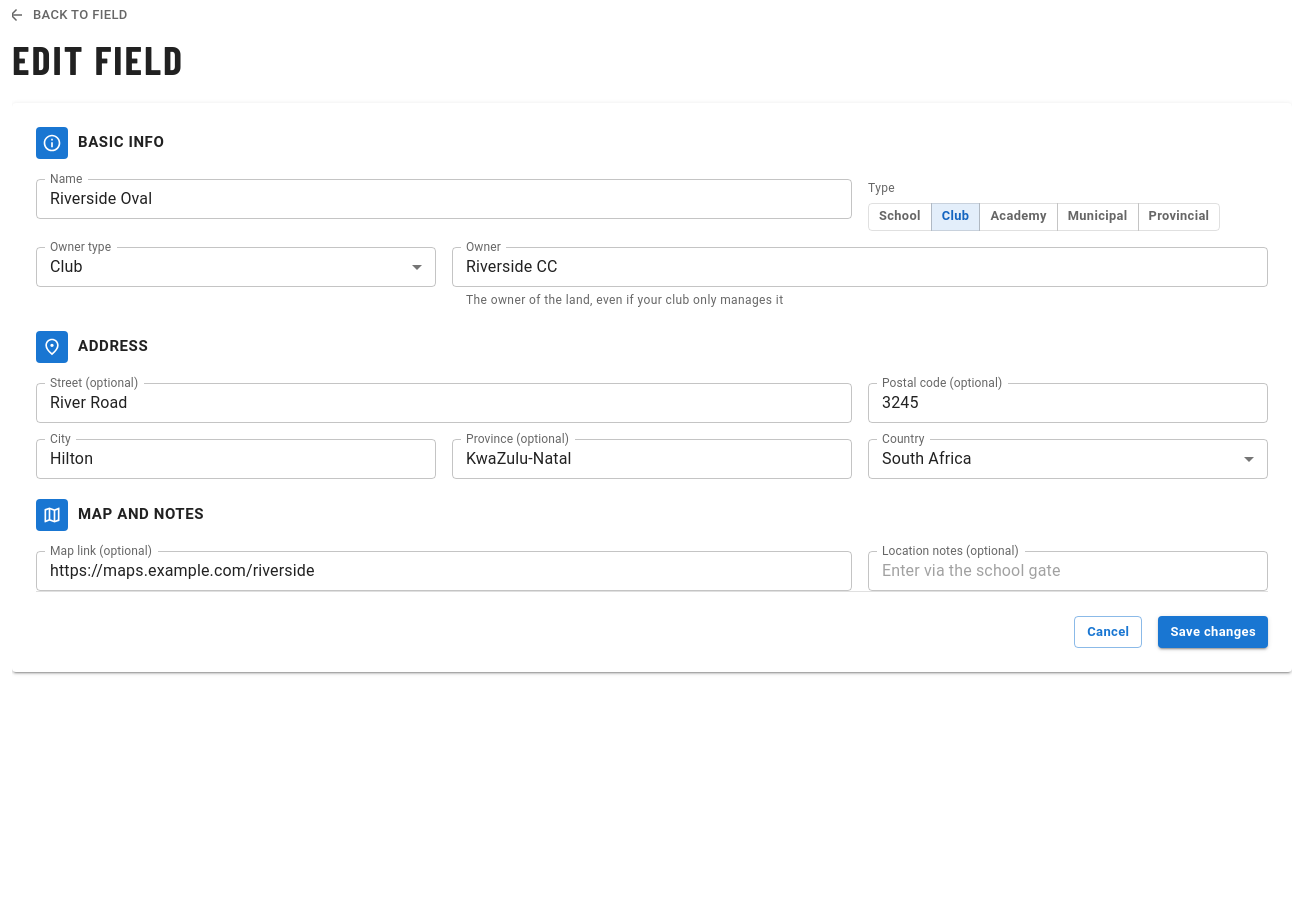
Test case: AdminFieldFormPage › shows the server's message when saving fails
Expected: the heading "Edit field" is shown, [12, 35, 184, 83]
Click the button "Save changes": (1213, 632) [1158, 616, 1268, 648]
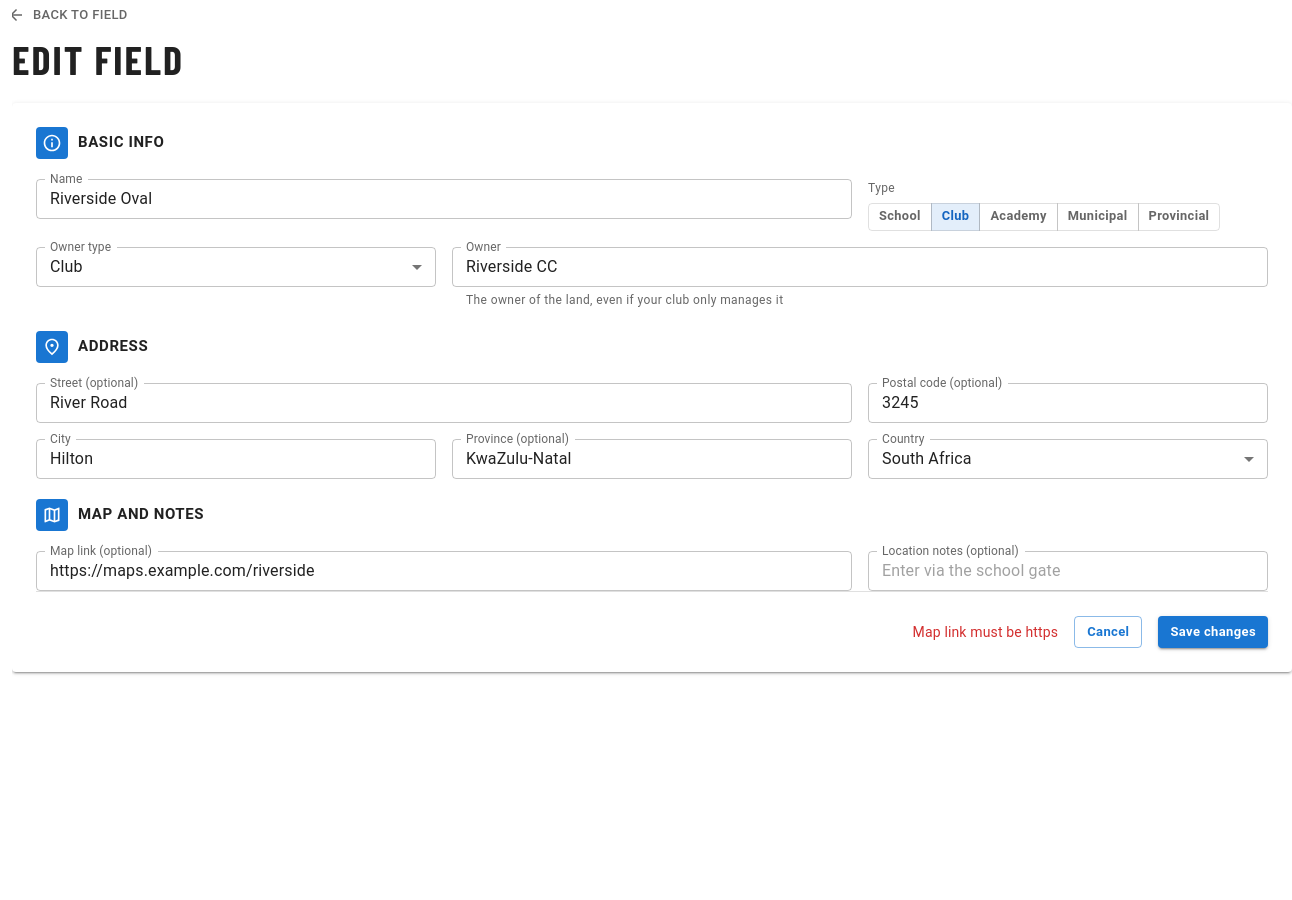
Result: the text "Map link must be https" is shown at [913, 622, 1058, 642]
